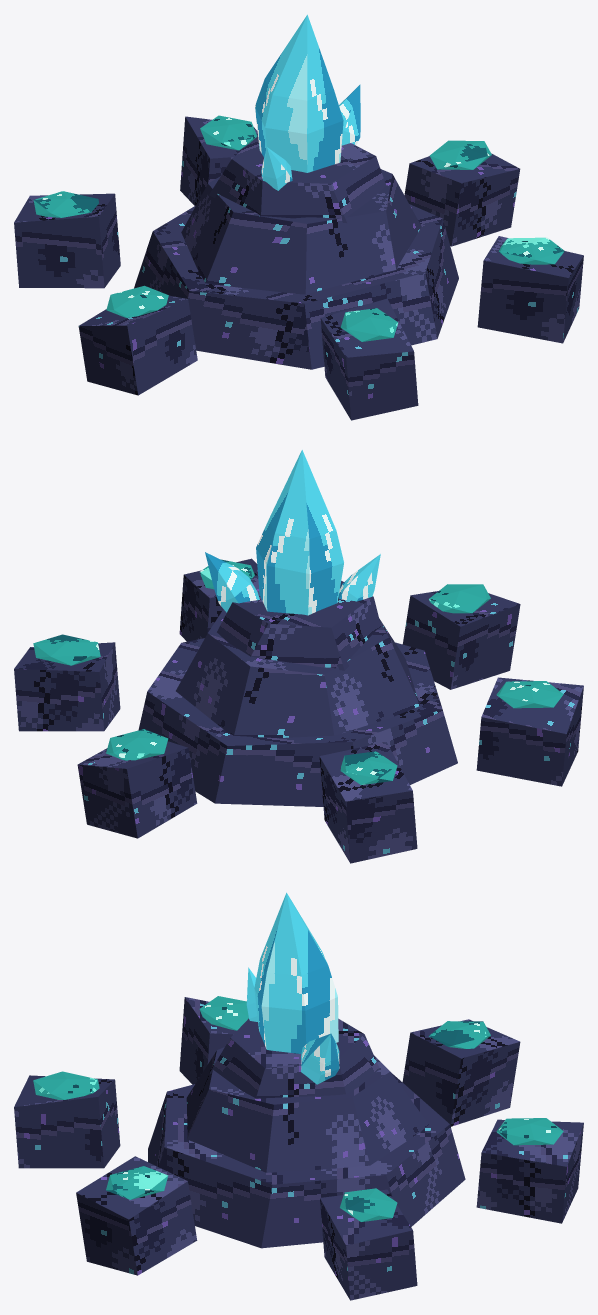
Rendered from cave_lightcrystal.glb.
3 renders of one model, top to bottom at view 1: azimuth 30°, elevation 25°; view 2: azimuth 150°, elevation 25°; view 3: azimuth 270°, elevation 25°, orthographic.
Visible parts, largest first — view 1: Pedestal, Crystal, MossGlow; view 2: Pedestal, Crystal, MossGlow; view 3: Pedestal, Crystal, MossGlow.
Part boxes in pixels (x1=…): Pedestal: x1=14, y1=116, x2=583, y2=420; Crystal: x1=255, y1=14, x2=360, y2=190; MossGlow: x1=33, y1=115, x2=564, y2=341; Pedestal: x1=14, y1=558, x2=583, y2=863; Crystal: x1=205, y1=450, x2=380, y2=615; MossGlow: x1=33, y1=559, x2=563, y2=784; Pedestal: x1=14, y1=997, x2=583, y2=1300; Crystal: x1=246, y1=892, x2=339, y2=1084; MossGlow: x1=33, y1=996, x2=563, y2=1221.
Size of the model in its own units: 3.21 by 1.84 by 3.24.
Materials: 3 (3 with a texture image).
